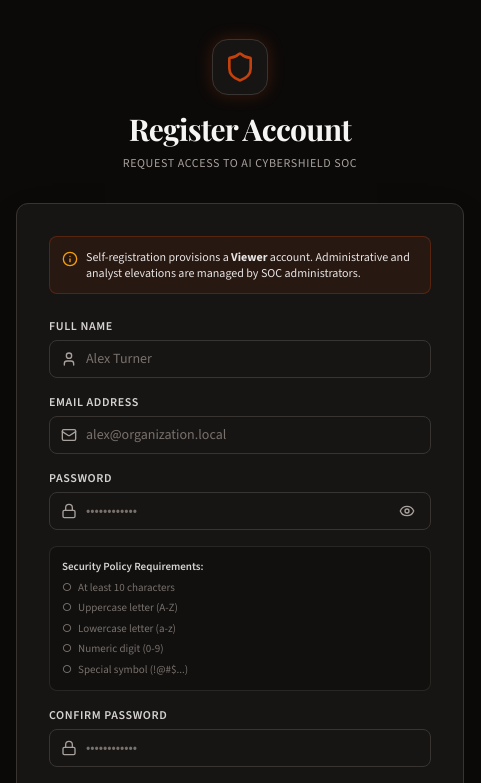
Test: Auth Feature Pages › RegisterPage › enforces password policy checklist
Type "weak" into the password field labelled "Password".
click(240, 511); type("weak")  # box [49,492,431,530]
(page scrolled)
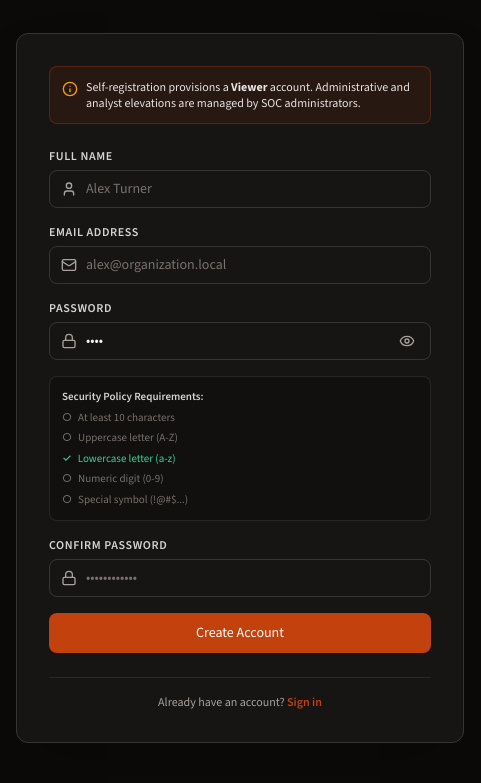
Click the button "Create Account".
click(240, 633)  # box [49,613,431,653]
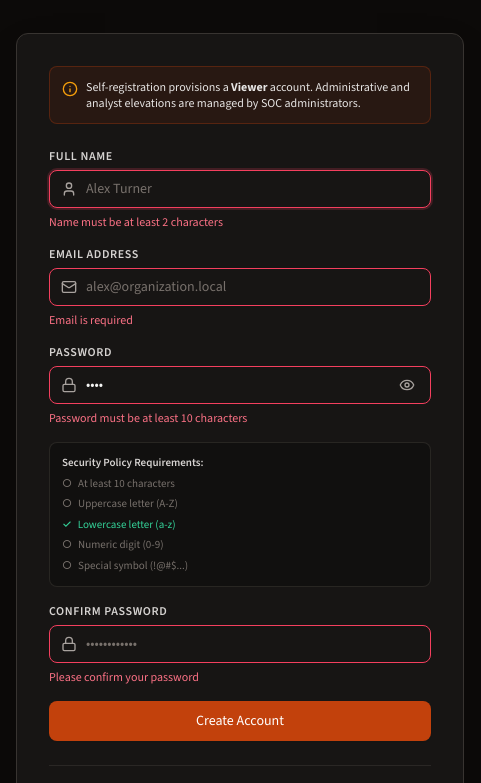
Check: the text "Password must be at least 10 characters" is shown, box [49,410,247,426]
